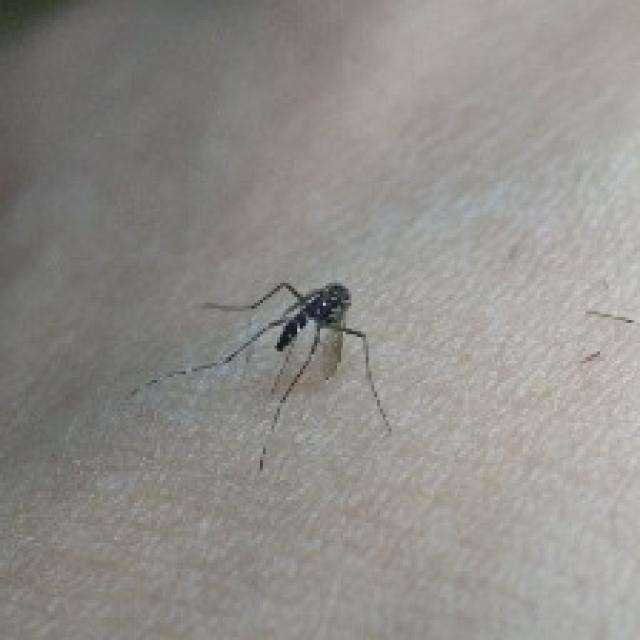aedes: (129, 277, 394, 472)
